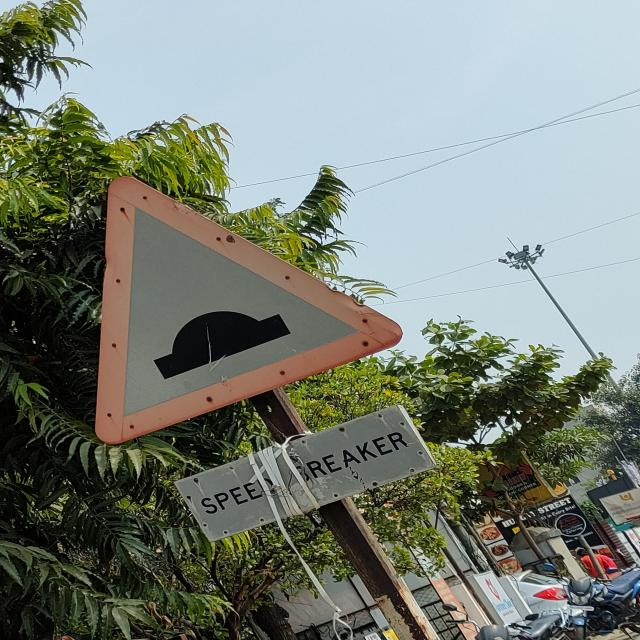horn_prohibited: (90, 176, 401, 438)
